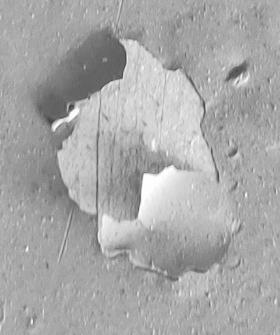paint-off: (1, 1, 280, 335)
